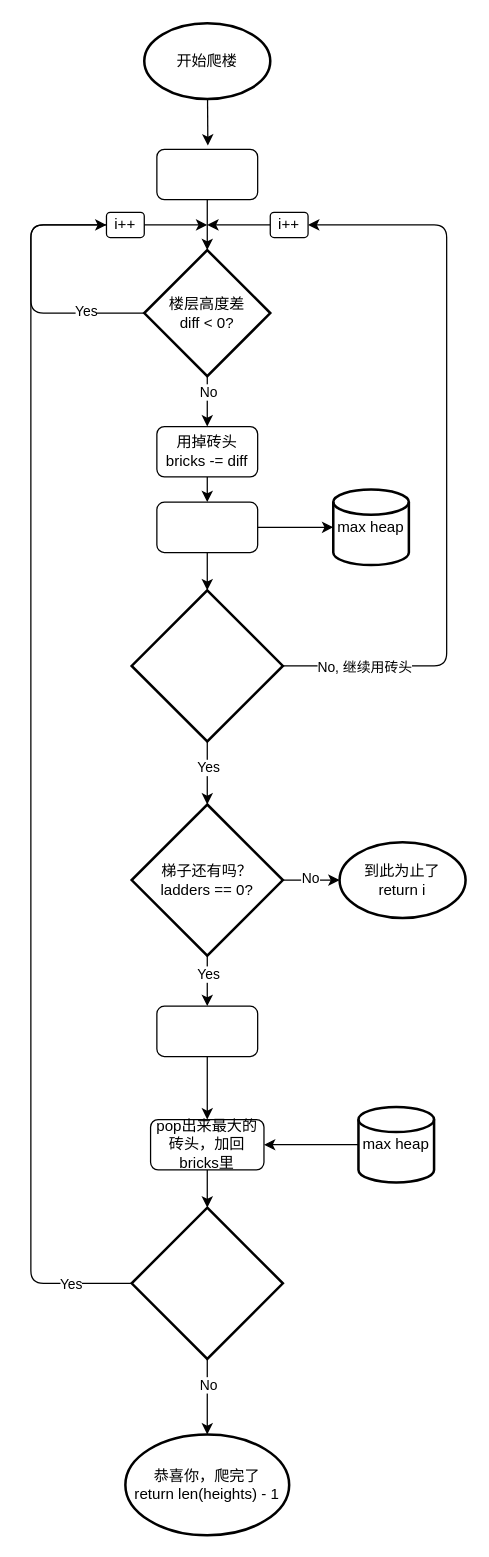
This 489x1557 diagram has some shape labels left out. Each missing label, with the centre of its shape:
"i < len(heights)?" belongs at [207,1283].
"i = 1" belongs at [207,174].
"存入heap" belongs at [207,527].
"用个梯子 ladder -= 1" belongs at [207,1031].
"砖头数量小于0？ 透支了?" belongs at [207,665].
